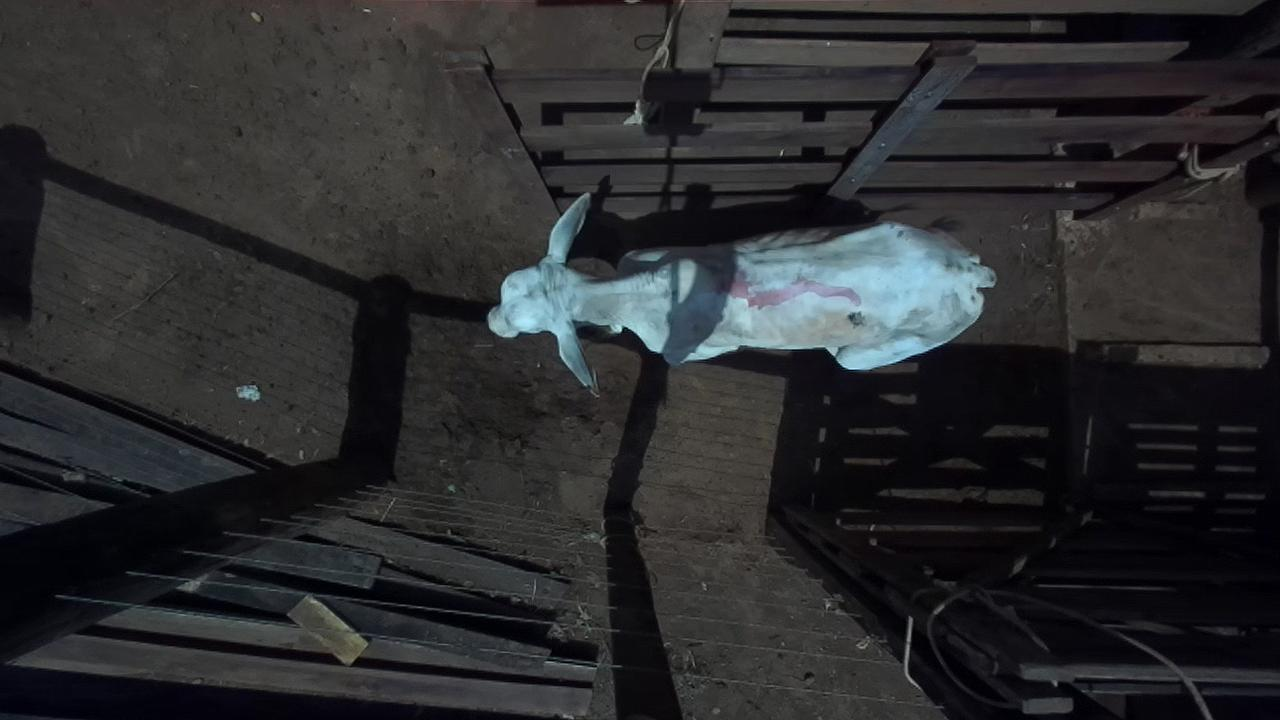cattle: (485, 184, 997, 396)
